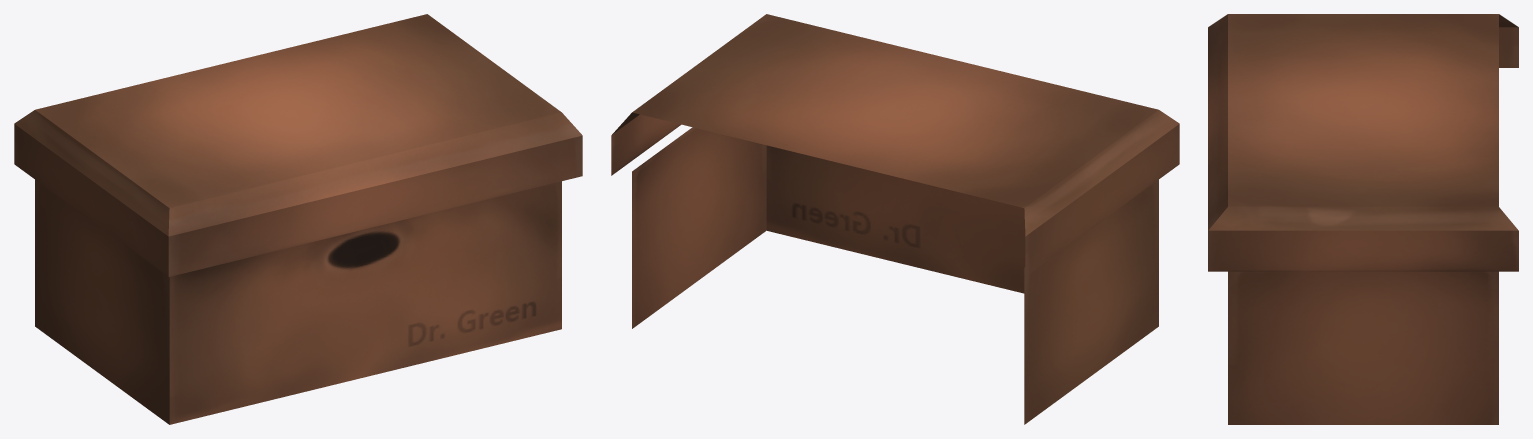
3 renders of one model, left to right at view 1: azimuth 30°, elevation 25°; view 2: azimuth 150°, elevation 25°; view 3: azimuth 270°, elevation 25°, orthographic.
Parts seen in each view (by area): view 1: box; view 2: box; view 3: box.
Boxes of the visible parts, x1,y1,x2,y2 form: box: (14,14,582,424); box: (611,14,1179,424); box: (1208,14,1518,424).
Bounding box in the file's own units: 380 × 190 × 245.
1 material, 1 textured.
